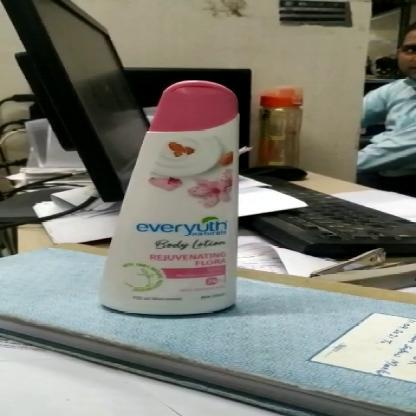Everyuth Naturals Body Lotion Rejuvenating Flora 200ml: (92, 77, 246, 320)
